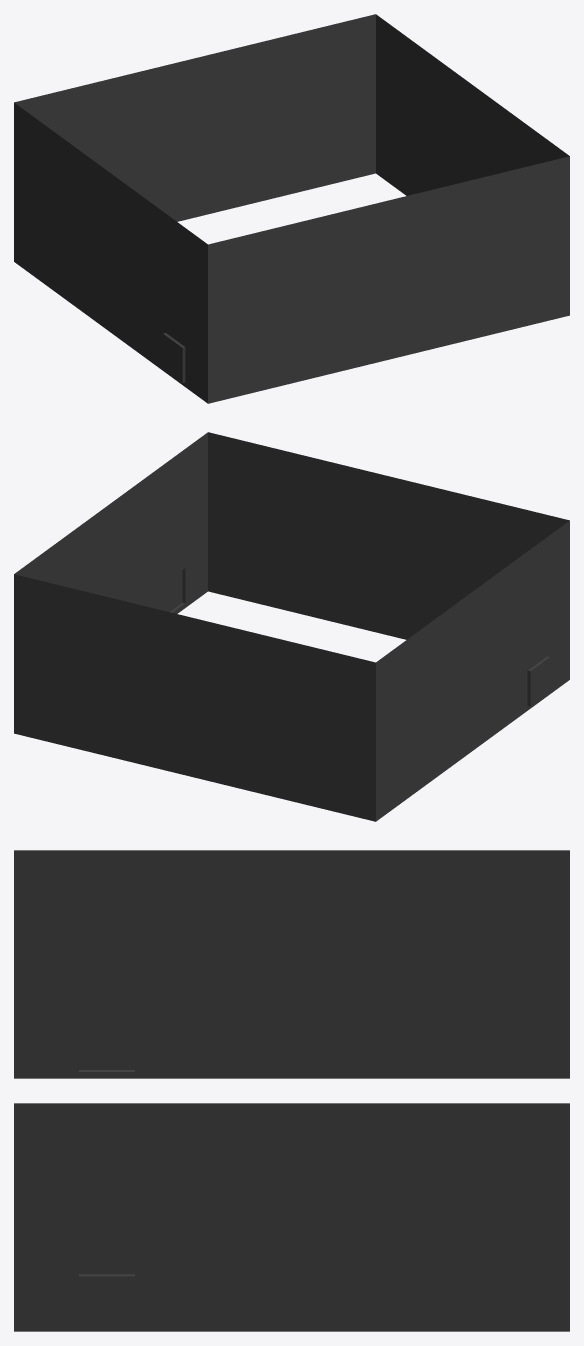
File: Walls.FBX
3 renders of one model, top to bottom at view 1: azimuth 30°, elevation 25°; view 2: azimuth 150°, elevation 25°; view 3: azimuth 270°, elevation 25°, orthographic. The views are drawn at different scales.
Visible parts, largest first — view 1: Walls; view 2: Walls; view 3: Walls.
Part boxes in pixels (bbox=[...]): Walls: bbox=[14, 14, 569, 403]; Walls: bbox=[14, 432, 569, 821]; Walls: bbox=[14, 850, 569, 1331].
Size of the model in its own units: 27719 by 11478 by 25342.
